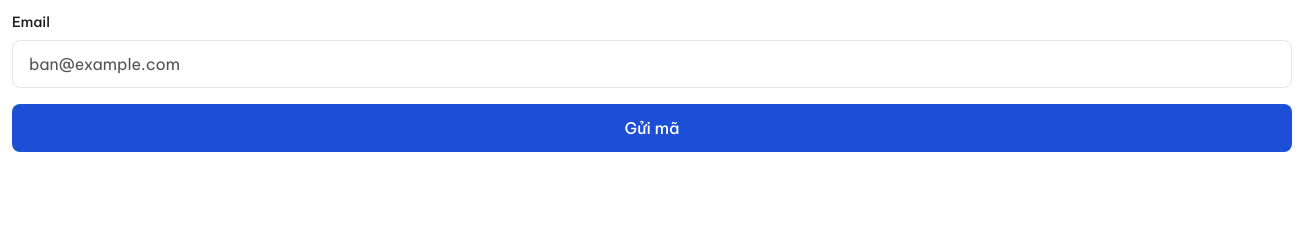
Test case: OtpSignInForm › bước 1 nhập email, bước 2 nhập mã rồi đăng nhập
Later steps or results of the test are not shown.
In the field labelled "Email": (652, 64) [12,40,1292,88], type "SV@Example.com"
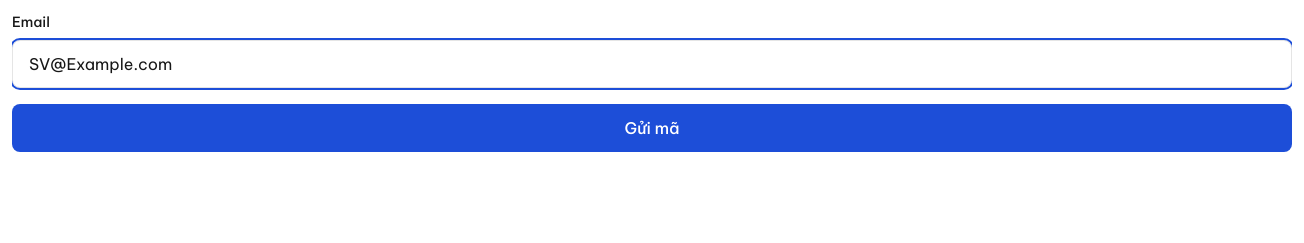
Click the button "Gửi mã": (652, 128) [12,104,1292,152]
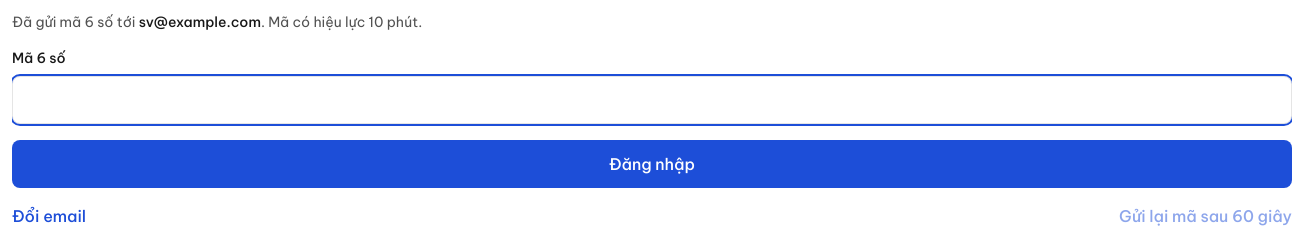
expect the text "Đã gửi mã 6 số tới sv@example.com. Mã có hiệu lực 10 phút." is shown: met, box [12,13,422,31]
